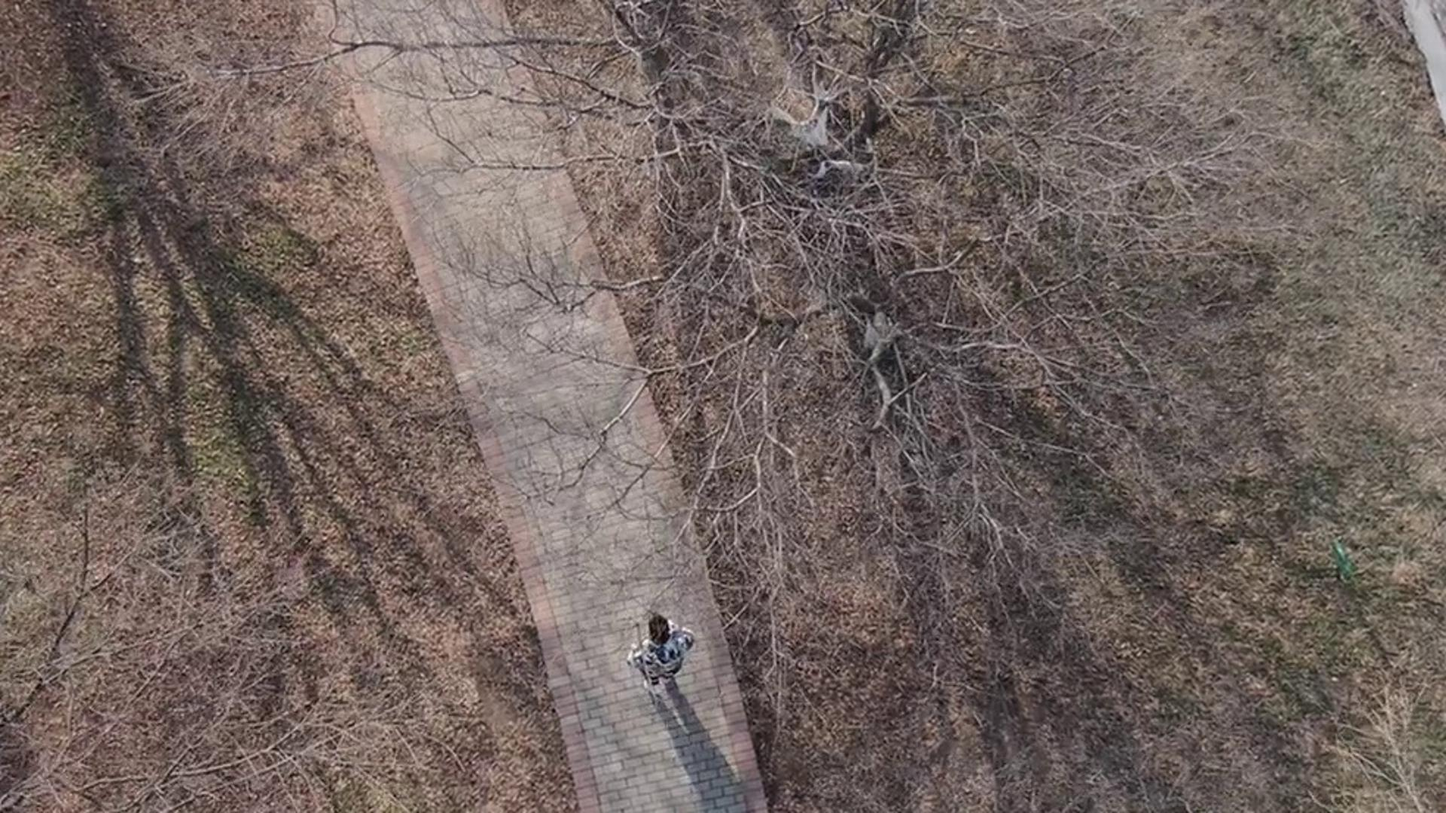human: (595, 611, 644, 684)
